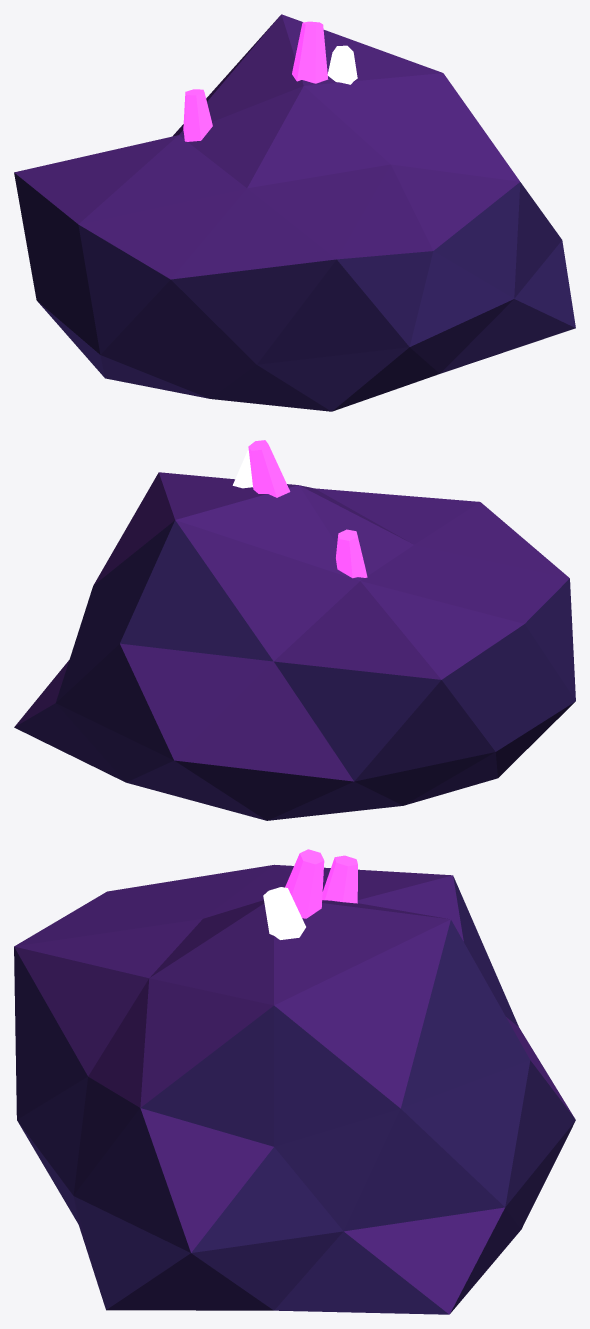
Rendered from W6_Rock_A.fbx.
3 views of the same model, one above another, from view 1: azimuth 30°, elevation 25°; view 2: azimuth 150°, elevation 25°; view 3: azimuth 270°, elevation 25° (orthographic). The views are drawn at different scales.
Visible parts, largest first — view 1: W6_Rock_A; view 2: W6_Rock_A; view 3: W6_Rock_A.
Part boxes in pixels (x1,y1,x2,y2): W6_Rock_A: (14, 14, 575, 411); W6_Rock_A: (14, 440, 575, 820); W6_Rock_A: (14, 849, 575, 1314).
Bounding box in the file's own units: 3.03 × 1.82 × 2.62.
